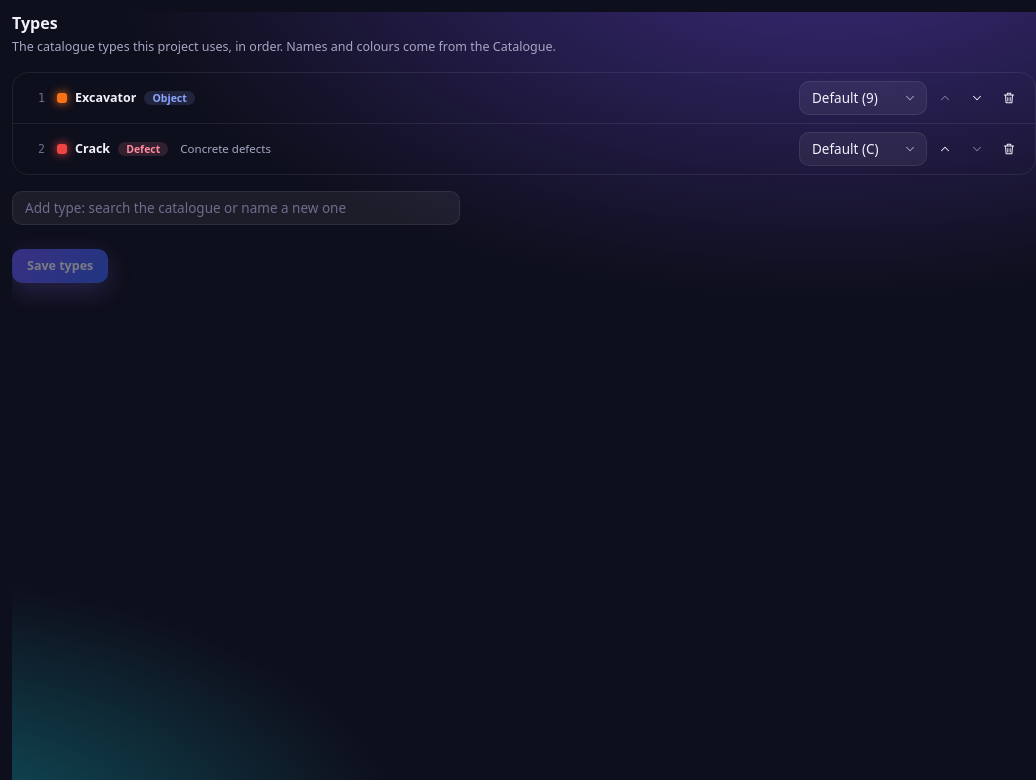
Test: ProjectTypesSection › refuses a hotkey used twice before sending
Select "9" in the dropdown named "Hotkey of Crack": [863, 149] box x1=799 y1=132 x2=927 y2=166
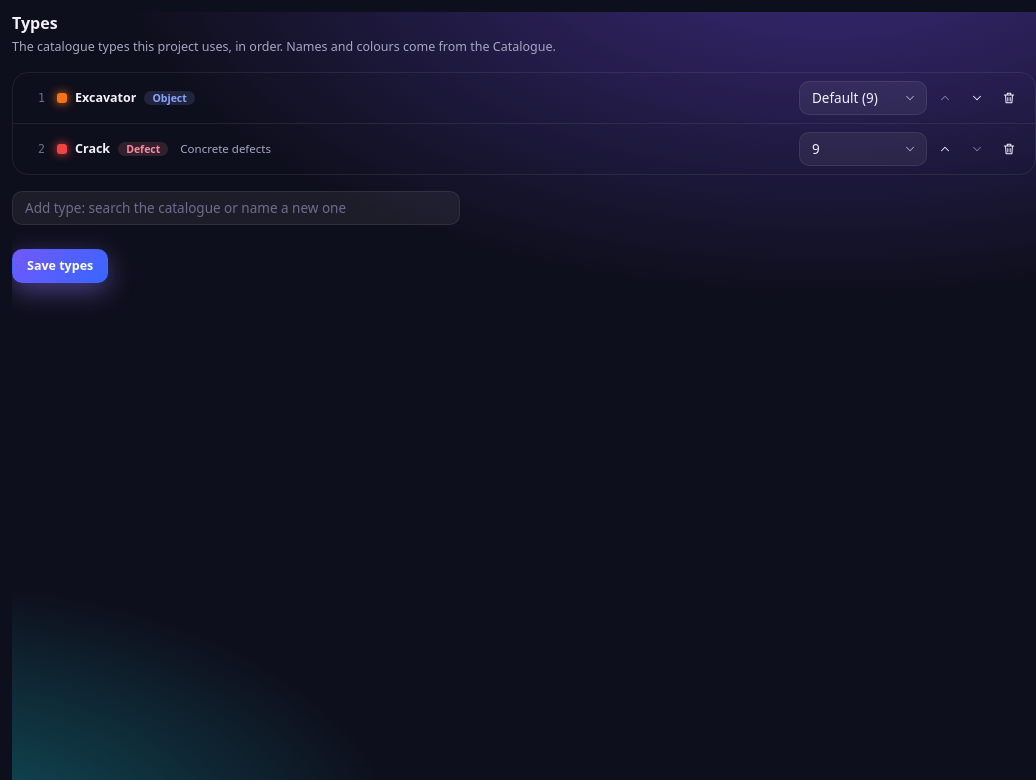
Click the button "Save types": [60, 266] box x1=12 y1=249 x2=108 y2=283
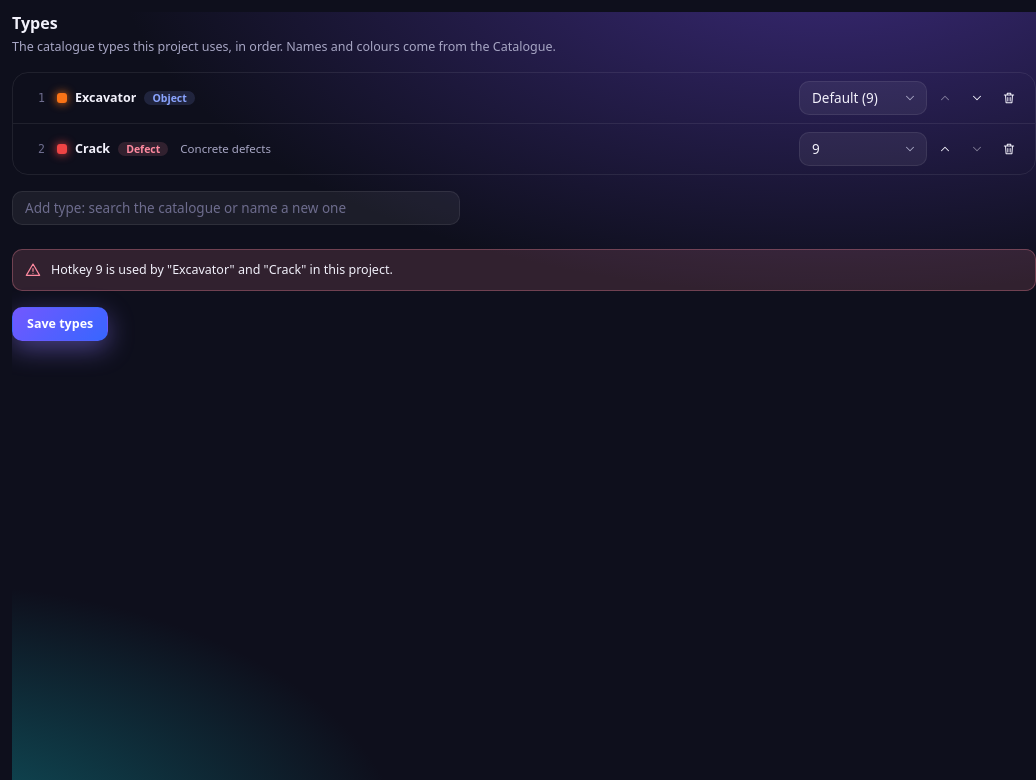
Expected: the text "Hotkey 9 is used by \"Excavator\" and \"Crack\" in this project." is shown, x1=51 y1=261 x2=393 y2=278
